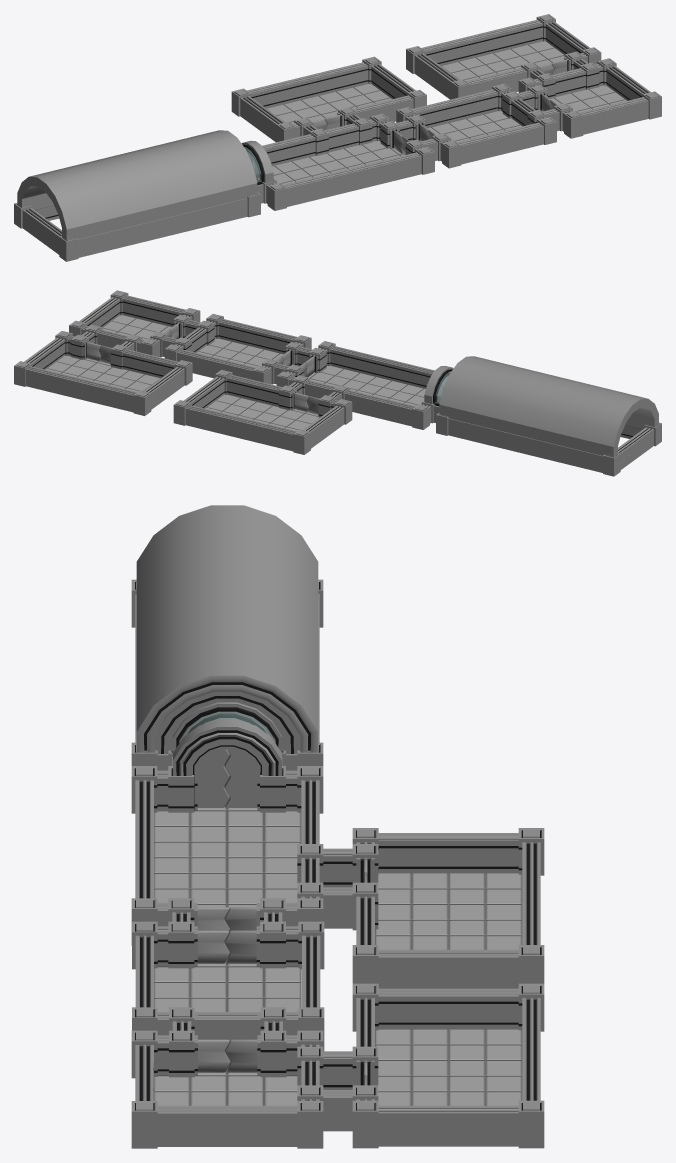
Rendered from g_spaceship.FBX.
The picture shows the model from 3 angles, top to bottom: view 1: azimuth 30°, elevation 25°; view 2: azimuth 150°, elevation 25°; view 3: azimuth 270°, elevation 25°; orthographic projection. The views are drawn at different scales.
Visible parts, largest first — view 1: obj_spaceship_base, obj_spaceship_room_2, obj_spaceship_room_3, obj_spaceship_room_1, g_spaceshp_base, obj_spaceship_room_3_floor, obj_spaceship_room_2_floor, obj_spaceship_room_1_floor; view 2: obj_spaceship_base, obj_spaceship_room_3, obj_spaceship_room_2, obj_spaceship_room_1, g_spaceshp_base, obj_spaceship_room_2_floor, obj_spaceship_room_3_floor, obj_spaceship_room_1_floor; view 3: obj_spaceship_base, obj_spaceship_room_3, obj_spaceship_room_2, g_spaceshp_base, obj_spaceship_room_1, obj_spaceship_room_3_floor, obj_spaceship_room_2_floor, obj_spaceship_room_1_floor, obj_spaceship_base_door_2_R, obj_spaceship_room_1_door_2_L, obj_spaceship_room_1_door_2_R, obj_spaceship_base_door_2_L.
Part boxes in pixels (x1=…): obj_spaceship_base: x1=14, y1=83, x2=556, y2=261; obj_spaceship_room_2: x1=231, y1=56, x2=426, y2=155; obj_spaceship_room_3: x1=406, y1=14, x2=601, y2=99; obj_spaceship_room_1: x1=502, y1=58, x2=661, y2=138; g_spaceshp_base: x1=272, y1=110, x2=521, y2=184; obj_spaceship_room_3_floor: x1=441, y1=41, x2=564, y2=80; obj_spaceship_room_2_floor: x1=266, y1=83, x2=391, y2=123; obj_spaceship_room_1_floor: x1=550, y1=85, x2=626, y2=112; obj_spaceship_base: x1=164, y1=314, x2=661, y2=476; obj_spaceship_room_3: x1=14, y1=324, x2=192, y2=415; obj_spaceship_room_2: x1=173, y1=369, x2=352, y2=454; obj_spaceship_room_1: x1=69, y1=290, x2=214, y2=357; g_spaceshp_base: x1=197, y1=338, x2=425, y2=405; obj_spaceship_room_2_floor: x1=205, y1=394, x2=319, y2=430; obj_spaceship_room_3_floor: x1=46, y1=355, x2=160, y2=392; obj_spaceship_room_1_floor: x1=102, y1=315, x2=171, y2=339; obj_spaceship_base: x1=131, y1=505, x2=324, y2=1051; obj_spaceship_room_3: x1=297, y1=983, x2=544, y2=1148; obj_spaceship_room_2: x1=297, y1=828, x2=544, y2=988; g_spaceshp_base: x1=154, y1=789, x2=301, y2=1011; obj_spaceship_room_1: x1=131, y1=1007, x2=323, y2=1148; obj_spaceship_room_3_floor: x1=375, y1=1029, x2=522, y2=1105; obj_spaceship_room_2_floor: x1=375, y1=873, x2=522, y2=949; obj_spaceship_room_1_floor: x1=153, y1=1072, x2=297, y2=1105; obj_spaceship_base_door_2_R: x1=197, y1=930, x2=229, y2=963; obj_spaceship_room_1_door_2_L: x1=225, y1=1039, x2=257, y2=1072; obj_spaceship_room_1_door_2_R: x1=198, y1=1039, x2=230, y2=1072; obj_spaceship_base_door_2_L: x1=224, y1=930, x2=256, y2=963.
Bounding box in the file's own units: 341 × 33.75 × 112.
Materials: 4 (1 with a texture image).
